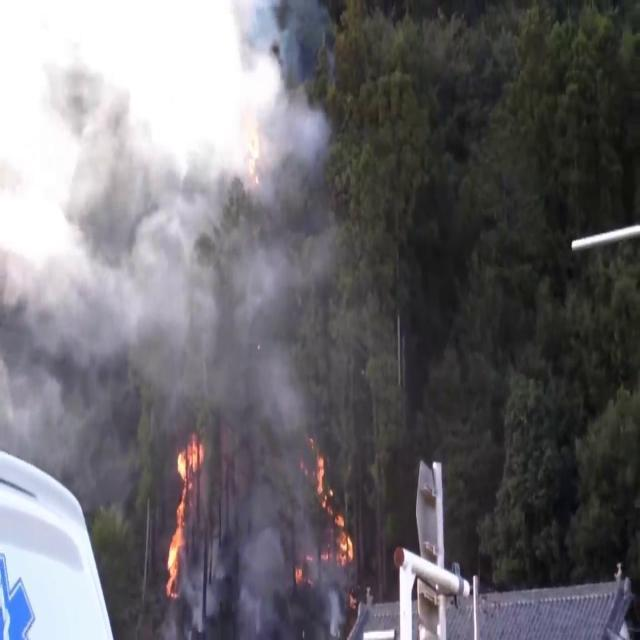Fire: (162, 430, 206, 596), (306, 442, 357, 580)
Smoke: (0, 2, 340, 512)
